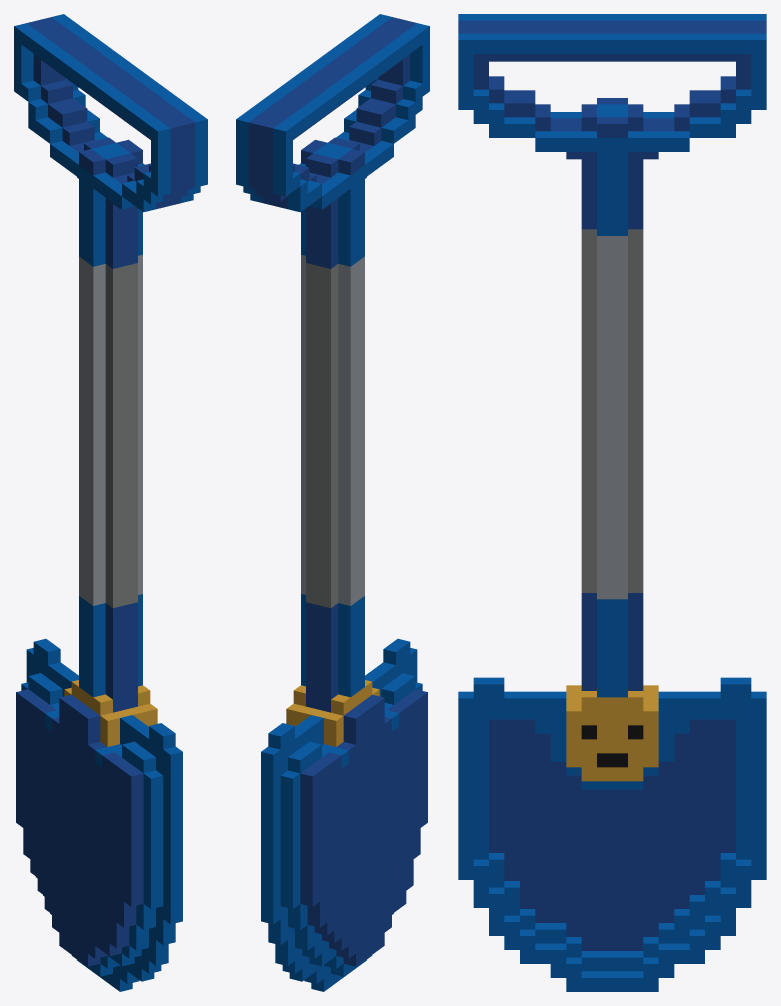
File: Shovel(v1.2.1).obj
3 renders of one model, left to right at view 1: azimuth 30°, elevation 25°; view 2: azimuth 150°, elevation 25°; view 3: azimuth 270°, elevation 25°, orthographic. The views are drawn at different scales.
Bounding box in the file's own units: 0.5 × 6.9 × 2.
Materials: 1 (1 with a texture image).
